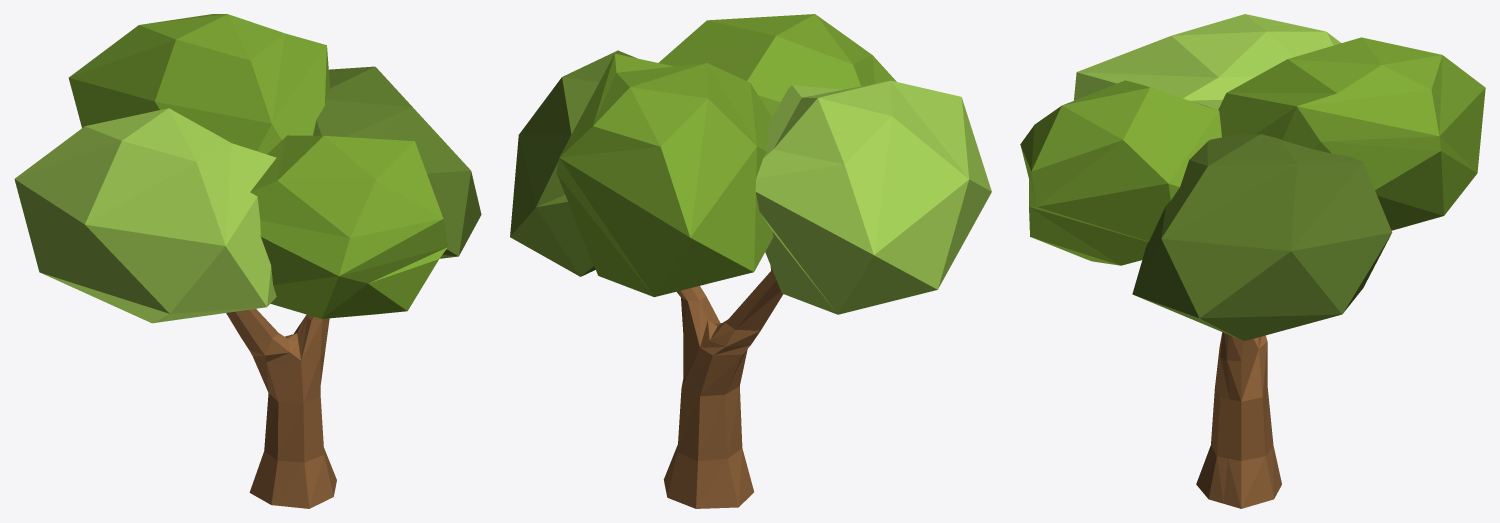
File: Strauch I.fbx
3 renders of one model, left to right at view 1: azimuth 30°, elevation 25°; view 2: azimuth 150°, elevation 25°; view 3: azimuth 270°, elevation 25°, orthographic. The views are drawn at different scales.
Visible parts, largest first — view 1: Platonischer_Körper_4, Stamm; view 2: Platonischer_Körper_4, Stamm; view 3: Platonischer_Körper_4, Stamm.
Part boxes in pixels (bbox=[...]): Platonischer_Körper_4: bbox=[14, 14, 481, 323]; Stamm: bbox=[226, 309, 336, 508]; Platonischer_Körper_4: bbox=[510, 14, 991, 314]; Stamm: bbox=[663, 266, 783, 508]; Platonischer_Körper_4: bbox=[1020, 14, 1485, 341]; Stamm: bbox=[1196, 332, 1281, 508].
Size of the model in its own units: 852 by 865 by 858.
